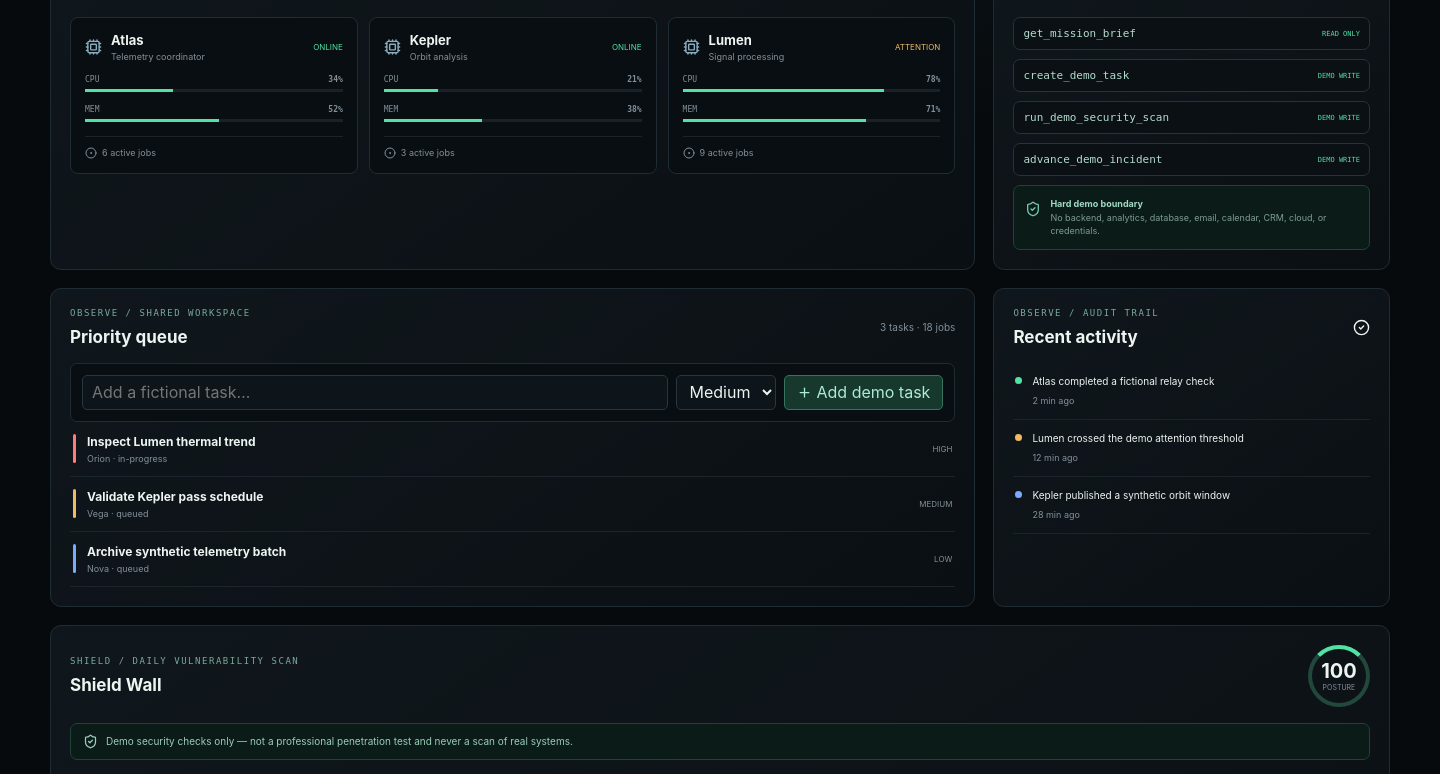
Scenario: UI › adds a session task
(page scrolled)
Type "Prepare observatory handoff" into the field named "task title". click: (375, 392)
box: 82,374 -> 668,410
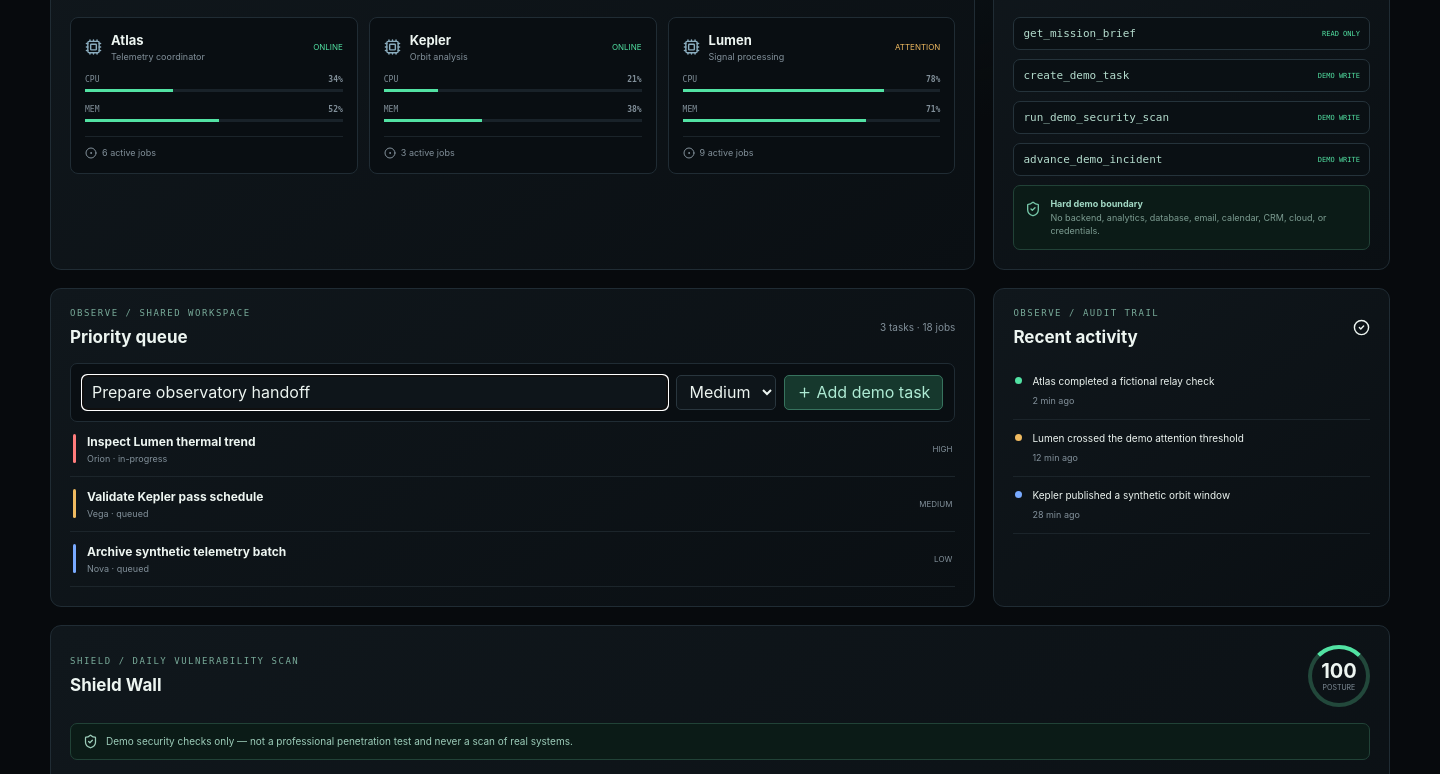
Click the button "Add demo task". click: (863, 392)
box: 784,374 -> 943,410
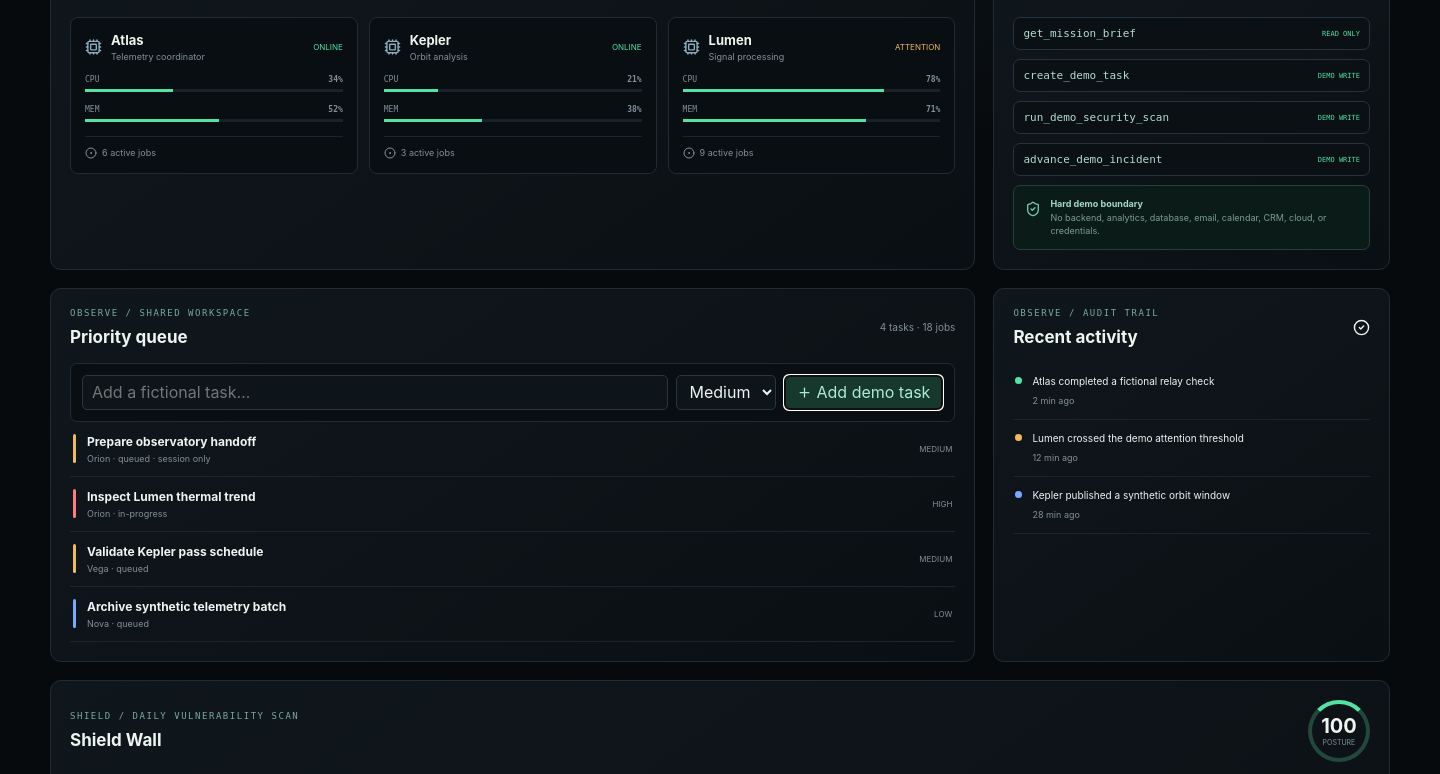
Now the heading "Prepare observatory handoff" is shown, box 87,434 -> 256,448
